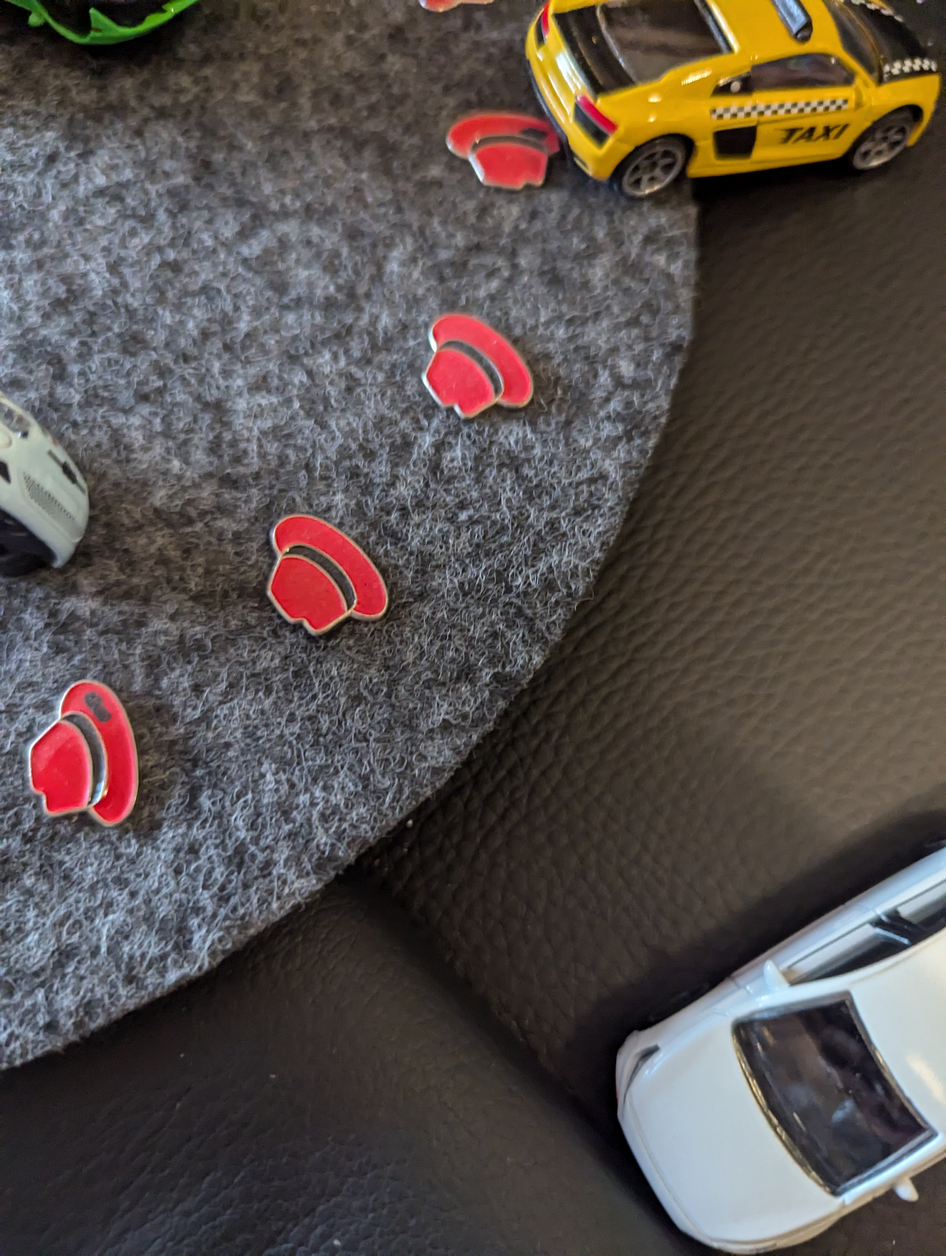Car: (565, 807, 946, 1256), (518, 0, 946, 212)
Red-Hat: (18, 646, 170, 844), (240, 486, 417, 648), (400, 296, 558, 441), (424, 90, 565, 192)
Scratch: (70, 673, 118, 736), (500, 108, 554, 148)
